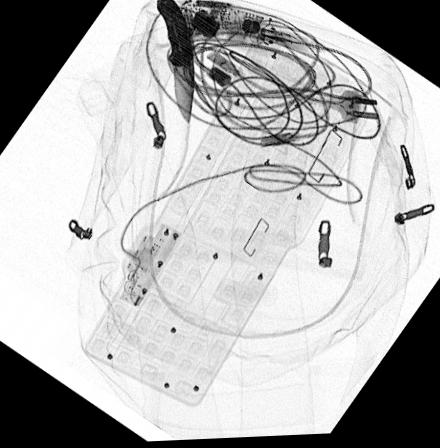Knife: (155, 0, 193, 125)
